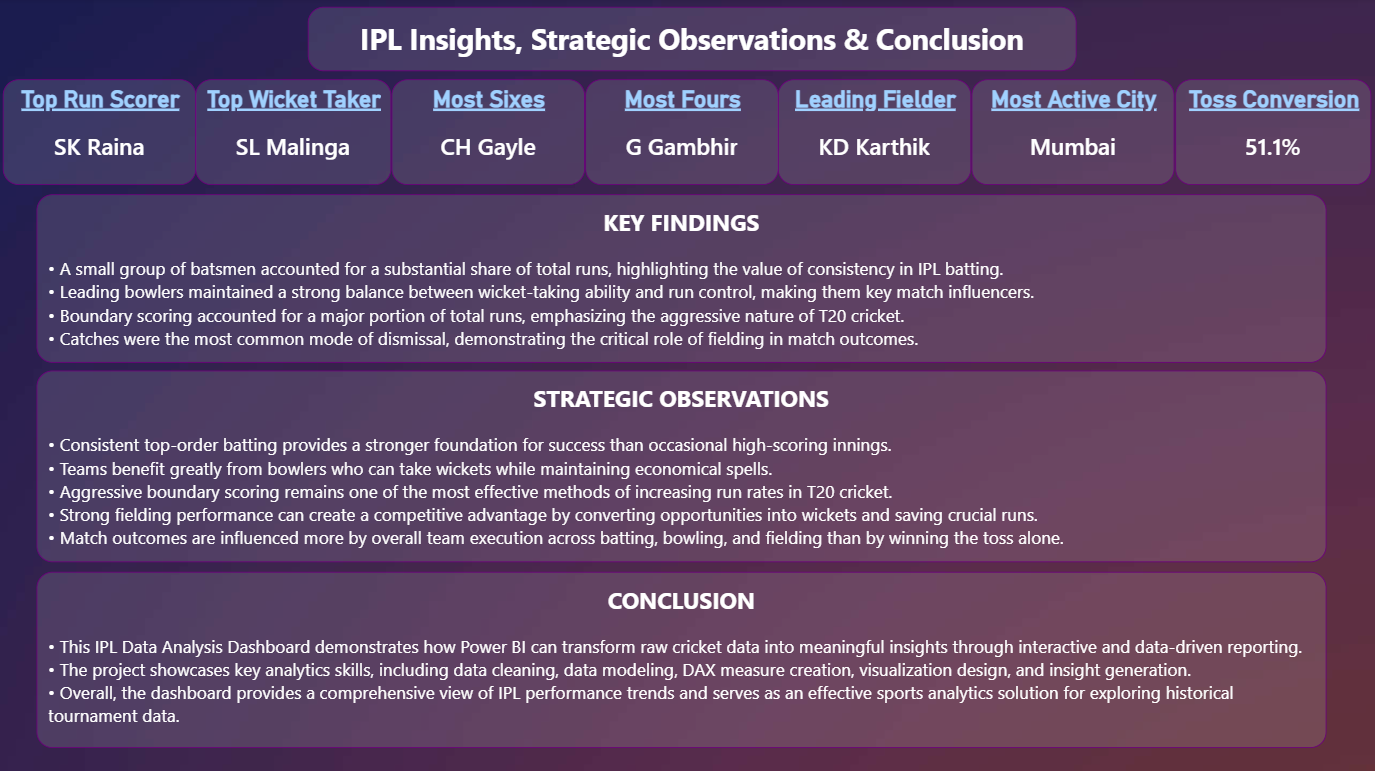

The dashboard page shown, as its layout file describes it:
{"tool":"powerbi","page":{"name":"IPL Insights & Summary","canvas":[1280,720],"ordinal":6},"visuals":[{"type":"textbox","box":[287.2,8,715,60],"z":0},{"type":"cardVisual","title":"Top Run Scorer","fields":{"Data":["deliveries.Top Run Scorer"]},"box":[3,76,180,98],"z":1000},{"type":"cardVisual","title":"Leading Fielder","fields":{"Data":["deliveries.Leading Fielder"]},"box":[725,76,180,98],"z":2000},{"type":"cardVisual","title":"Most Fours","fields":{"Data":["deliveries.Most Fours"]},"box":[545,76,180,98],"z":3000},{"type":"cardVisual","title":"Most Sixes","fields":{"Data":["deliveries.Most Sixes"]},"box":[365,76,180,98],"z":4000},{"type":"cardVisual","title":"Top Wicket Taker","fields":{"Data":["deliveries.Top Wicket Taker"]},"box":[183,76,182,98],"z":5000},{"type":"cardVisual","title":"Most Active City ","fields":{"Data":["matches.Most Active City"]},"box":[905,76,189,98],"z":6000},{"type":"cardVisual","title":"Toss Conversion","fields":{"Data":["matches.Toss Win Impact %"]},"box":[1094,76,182.5,98],"z":7000},{"type":"textbox","box":[35,182.5,1200,157],"z":12000},{"type":"textbox","box":[35,347,1200,178],"z":13000},{"type":"textbox","box":[35,534,1200,163.8],"z":13001}]}

Visuals, with their boxes in screenshot pixels (x1, y1, x2, y2), scaled from the page's 1280x720 canvas onto the 1375x771 screenshot:
textbox: bbox=(309, 9, 1077, 73)
"Top Run Scorer" cardVisual: bbox=(3, 81, 197, 186)
"Leading Fielder" cardVisual: bbox=(779, 81, 972, 186)
"Most Fours" cardVisual: bbox=(585, 81, 779, 186)
"Most Sixes" cardVisual: bbox=(392, 81, 585, 186)
"Top Wicket Taker" cardVisual: bbox=(197, 81, 392, 186)
"Most Active City " cardVisual: bbox=(972, 81, 1175, 186)
"Toss Conversion" cardVisual: bbox=(1175, 81, 1371, 186)
textbox: bbox=(38, 195, 1327, 364)
textbox: bbox=(38, 372, 1327, 562)
textbox: bbox=(38, 572, 1327, 747)
